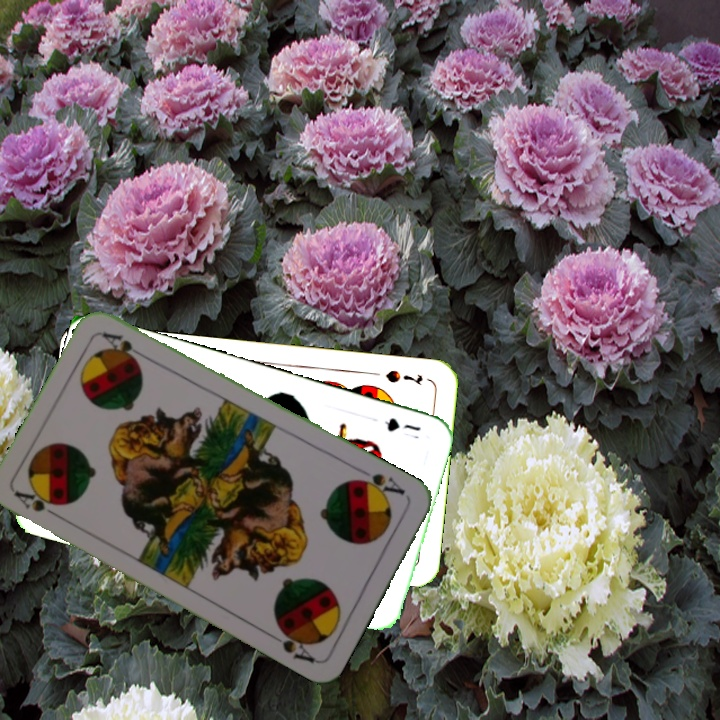GU: (380, 413, 423, 434)
S7: (381, 366, 425, 388)
SA: (351, 464, 408, 500), (11, 486, 66, 522)
